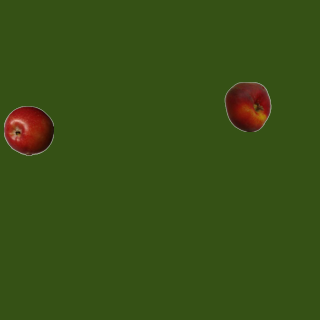Apple Braeburn: (3, 105, 53, 155)
Nectarine Flat: (222, 81, 272, 131)
